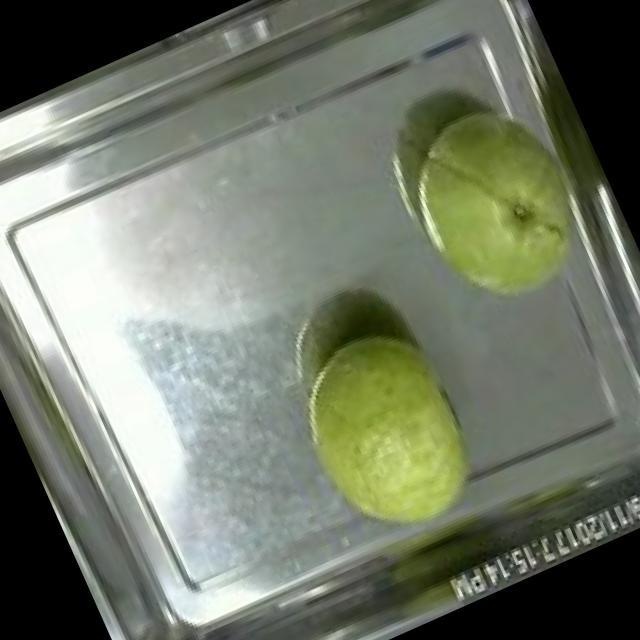Fruit: (372, 69, 634, 345), (264, 298, 512, 568)
